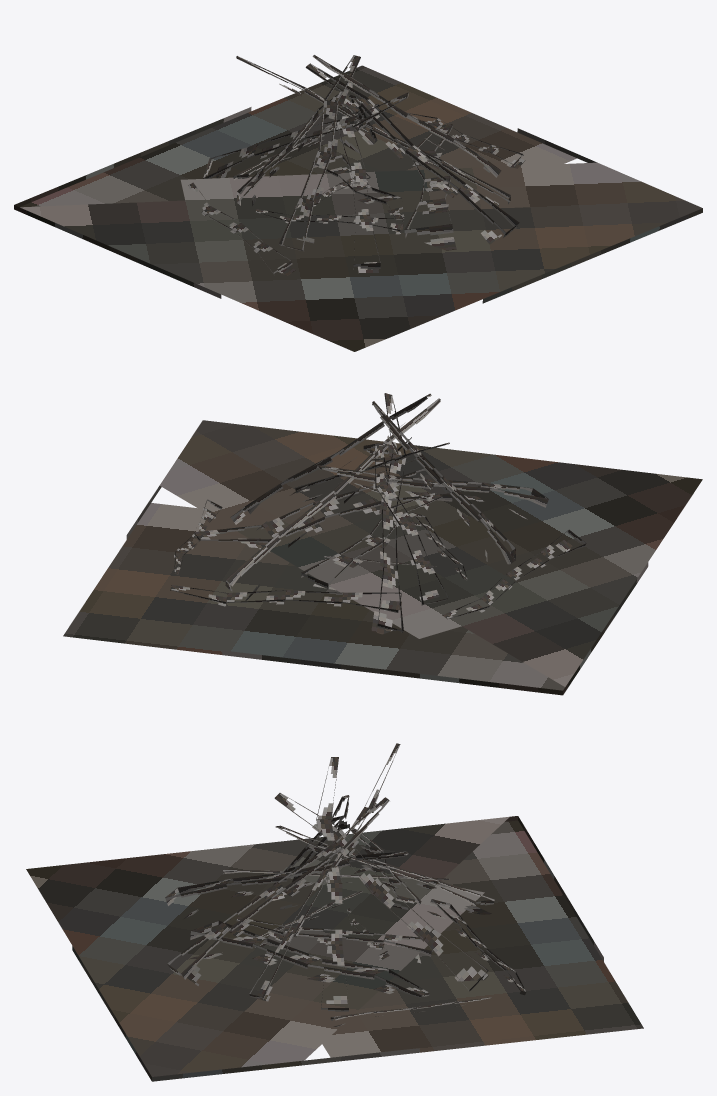
The model's file is bonfire.obj.
3 views of the same model, one above another, from view 1: azimuth 30°, elevation 25°; view 2: azimuth 150°, elevation 25°; view 3: azimuth 270°, elevation 25° (orthographic). The views are drawn at different scales.
Visible parts, largest first — view 1: Cube.015_Cube.029; view 2: Cube.015_Cube.029; view 3: Cube.015_Cube.029.
Part boxes in pixels (x1,y1,x2,y2): Cube.015_Cube.029: [14, 55, 702, 351]; Cube.015_Cube.029: [63, 393, 702, 695]; Cube.015_Cube.029: [26, 743, 643, 1081].
Bounding box in the file's own units: 3.63 × 1.17 × 3.97.
